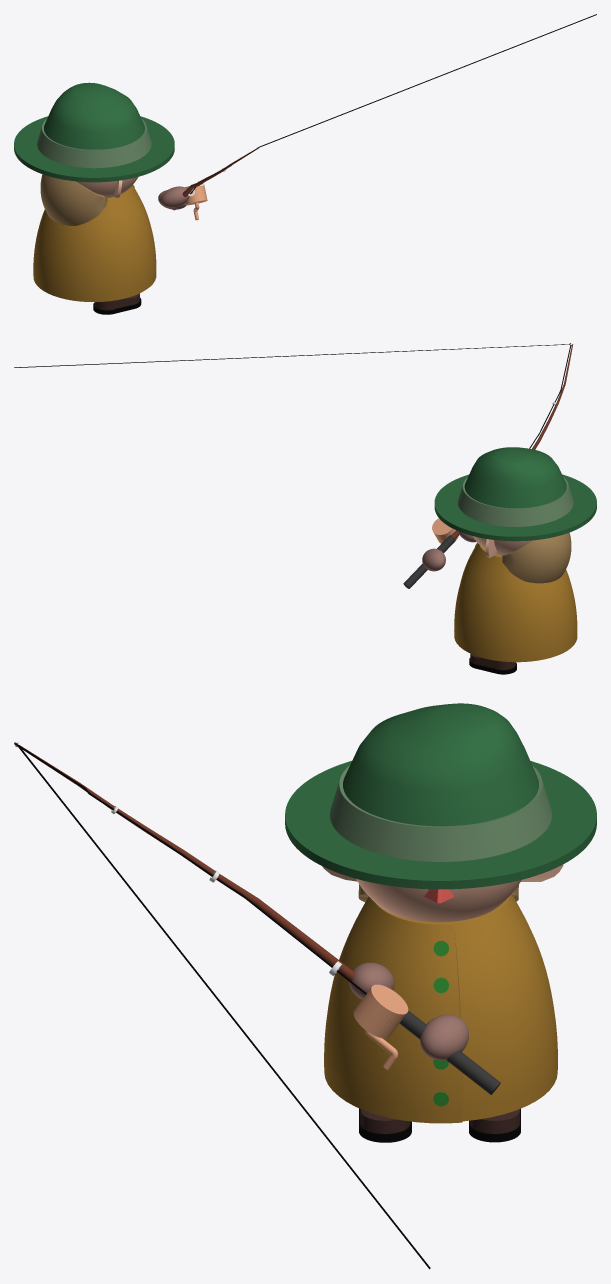
The model's file is RIBAK_RRR.fbx.
3 renders of one model, top to bottom at view 1: azimuth 30°, elevation 25°; view 2: azimuth 150°, elevation 25°; view 3: azimuth 270°, elevation 25°, orthographic. The views are drawn at different scales.
Parts seen in each view (by area): view 1: Цилиндр.005, Сфера, Окружность, Цилиндр.011, Сфера.002, Цилиндр, Цилиндр.012, Сфера.001; view 2: Цилиндр.005, Сфера, Окружность, Цилиндр.011, Цилиндр.012, Сфера.002, Цилиндр, Сфера.003; view 3: Цилиндр.005, Сфера, Цилиндр.011, Сфера.002, Цилиндр, Цилиндр.012, Сфера.003, Сфера.001, Цилиндр.004.
Boxes of the visible parts, x1,y1,x2,y2 form: Цилиндр.005: (14,82,174,182); Сфера: (33,185,156,302); Окружность: (40,174,107,225); Цилиндр.011: (172,146,259,220); Сфера.002: (76,177,138,198); Цилиндр: (93,293,141,314); Цилиндр.012: (190,14,596,194); Сфера.001: (160,186,189,207); Цилиндр.005: (434,447,596,541); Сфера: (454,543,577,662); Окружность: (502,532,571,583); Цилиндр.011: (403,344,573,588); Цилиндр.012: (14,343,571,448); Сфера.002: (473,536,533,557); Цилиндр: (469,653,516,674); Сфера.003: (422,548,445,571); Цилиндр.005: (285,703,596,889); Сфера: (324,894,557,1123); Цилиндр.011: (14,742,500,1094); Сфера.002: (322,864,563,922); Цилиндр: (359,1108,520,1142); Цилиндр.012: (15,743,430,1269); Сфера.003: (420,1014,468,1060); Сфера.001: (349,962,394,999); Цилиндр.004: (433,940,448,1106).
Size of the model in its own units: 701 by 256 by 320.
